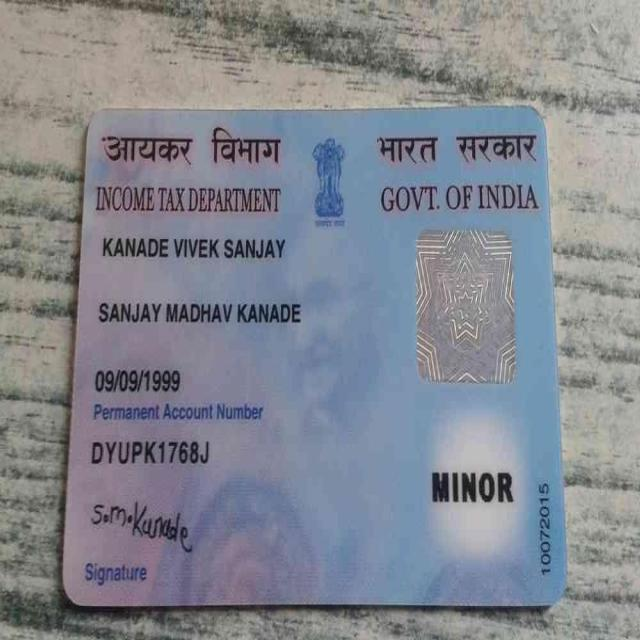pan_card: (71, 111, 562, 597)
